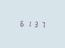one: (25, 19, 31, 27)
seven: (39, 20, 45, 28)
six: (18, 19, 24, 27)
three: (32, 20, 38, 28)
